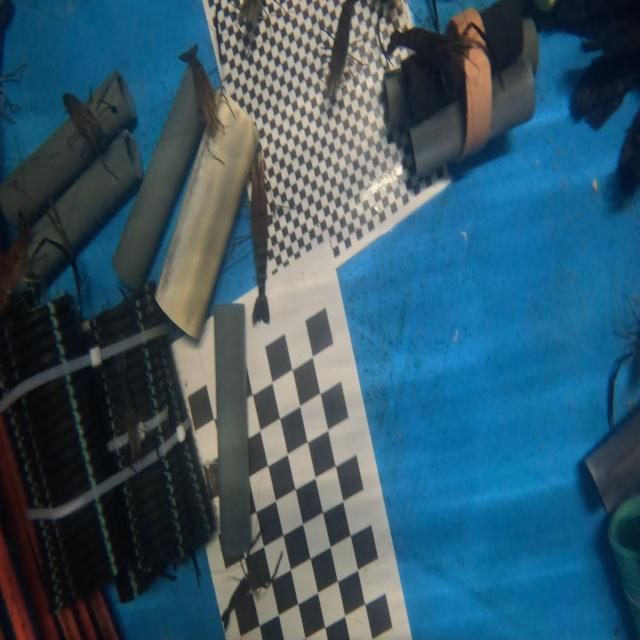prawn: (180, 47, 225, 134), (249, 150, 269, 323), (389, 27, 463, 67), (230, 549, 269, 607), (63, 94, 103, 149)
